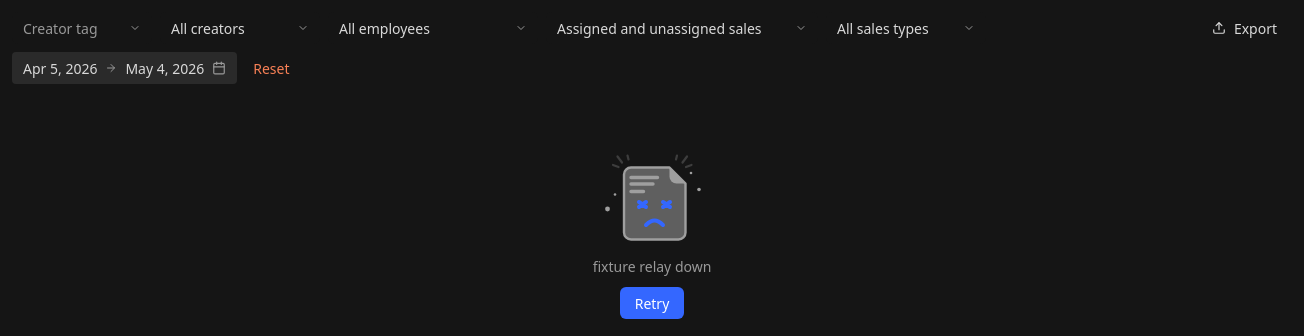
SalesRecords › a failed read shows the Relay's message and Retry, which reads again
The width and height of the screenshot is (1304, 336).
Expected: the text "fixture relay down" is shown, [593,256,711,277]
Click the button "Retry".
click(652, 303)  # box [620,287,684,319]
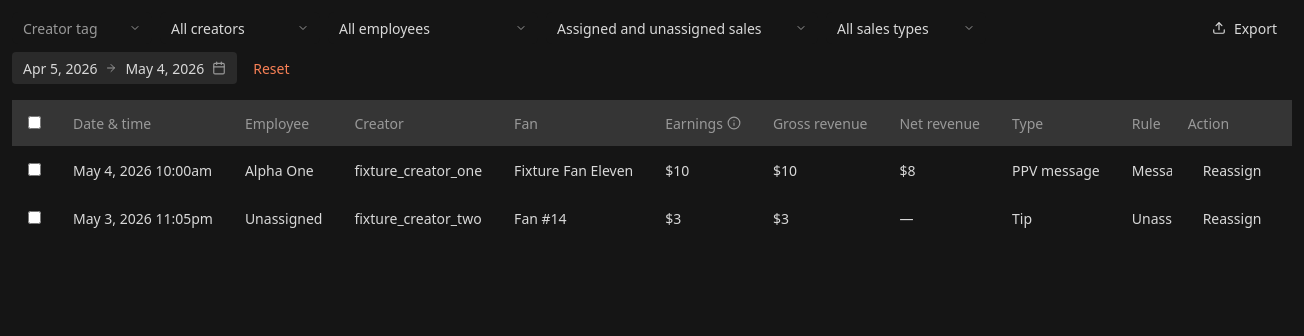
Now the table is shown, box [12,100,1292,242]
